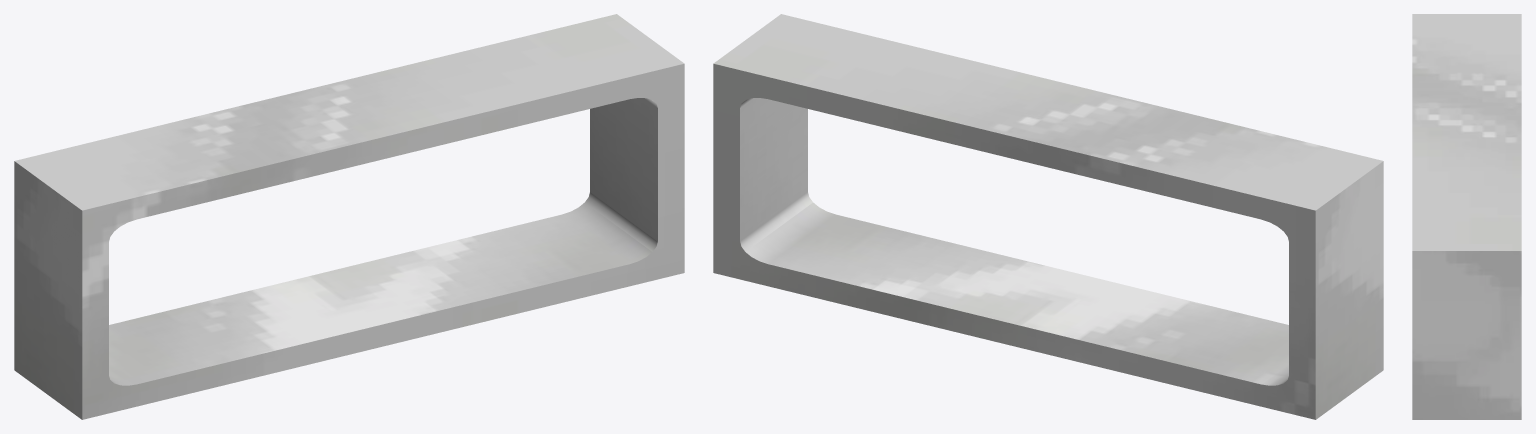
The model's file is SmallWindowWall.fbx.
3 renders of one model, left to right at view 1: azimuth 30°, elevation 25°; view 2: azimuth 150°, elevation 25°; view 3: azimuth 270°, elevation 25°, orthographic. The views are drawn at different scales.
Parts seen in each view (by area): view 1: pCube244; view 2: pCube244; view 3: pCube244.
Boxes of the visible parts, <box> form: pCube244: <box>14,14,684,419</box>; pCube244: <box>713,14,1383,419</box>; pCube244: <box>1412,14,1521,419</box>.
Size of the model in its own units: 2000 by 664 by 390.
1 material, 1 textured.
